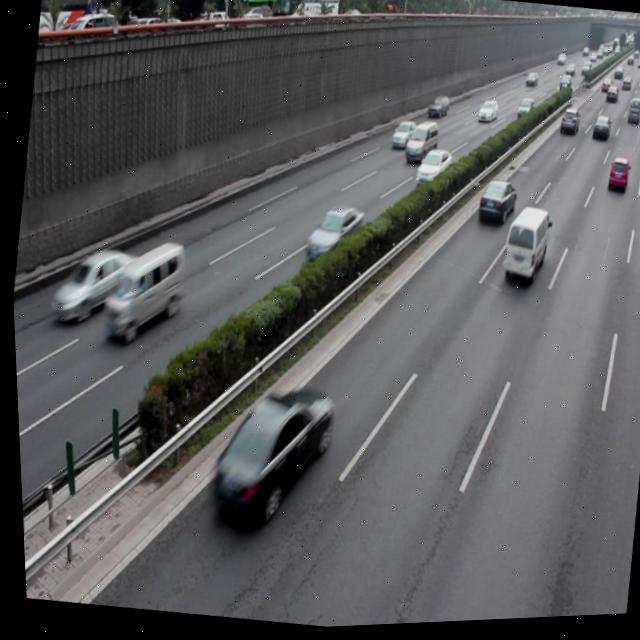car: (199, 376, 335, 533), (45, 242, 139, 334), (298, 202, 364, 270), (472, 179, 516, 233), (410, 149, 453, 193), (603, 160, 628, 199)
truck: (94, 234, 190, 351), (494, 205, 550, 291), (400, 121, 439, 170)
